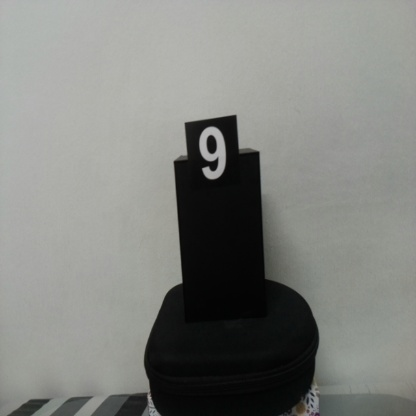id_9: (186, 123, 239, 200)
